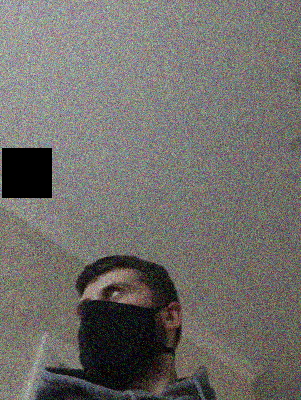with_mask: (76, 280, 159, 387)
